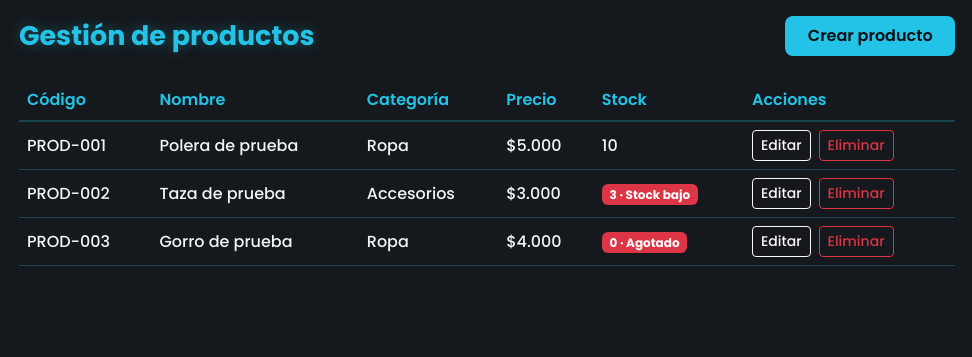
Test case: PanelProductos › muestra el mensaje de eliminación fallida para PRODUCTO_EN_CARRITO
Click the button "Eliminar" in the row of "PROD-001" at (856, 146), box x1=819 y1=130 x2=894 y2=161
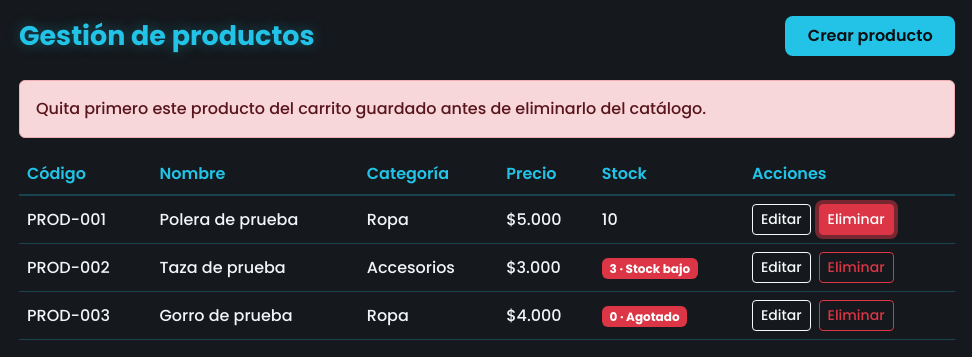
Check: the text "Polera de prueba" is shown, box x1=152 y1=195 x2=359 y2=244
Check: the message shows "Quita primero este producto del carrito guardado antes de eliminarlo del catálogo.", box x1=36 y1=97 x2=706 y2=120
